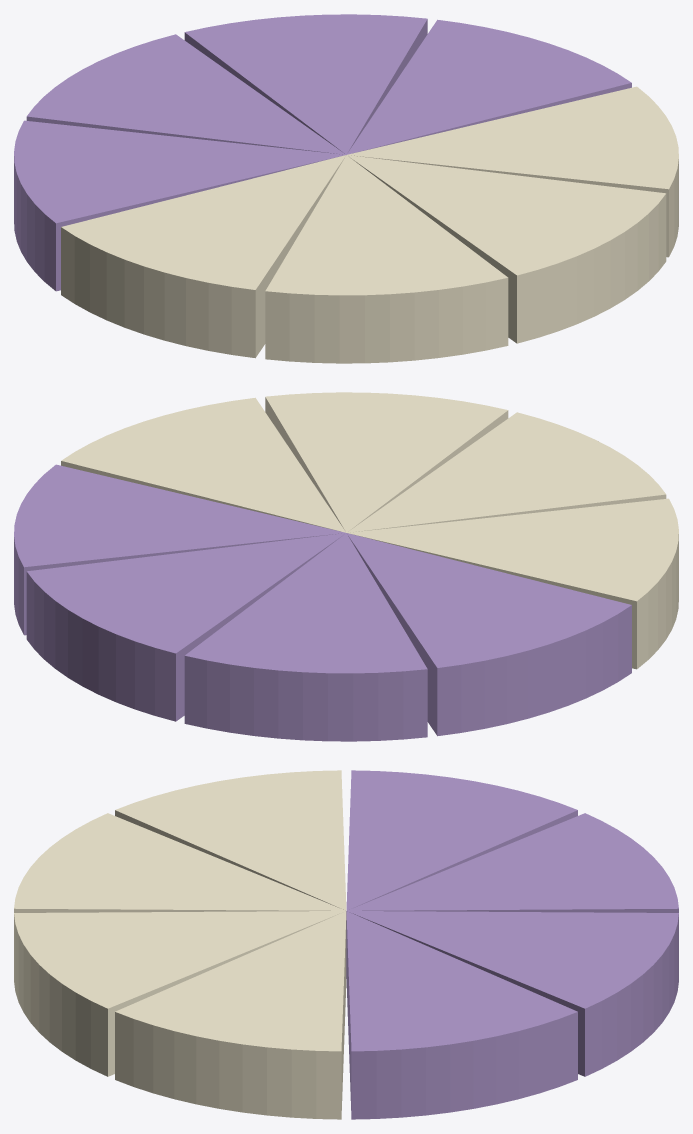
File: fractions.glb
The picture shows the model from 3 angles, top to bottom: view 1: azimuth 30°, elevation 25°; view 2: azimuth 150°, elevation 25°; view 3: azimuth 270°, elevation 25°; orthographic projection.
Parts seen in each view (by area): view 1: fractions_equal_eighth_6, fractions_equal_eighth_5, fractions_equal_eighth_7, fractions_equal_eighth_4, fractions_equal_eighth_8, fractions_equal_eighth_2, fractions_equal_eighth_3, fractions_equal_eighth_1; view 2: fractions_equal_eighth_3, fractions_equal_eighth_4, fractions_equal_eighth_2, fractions_equal_eighth_5, fractions_equal_eighth_1, fractions_equal_eighth_7, fractions_equal_eighth_6, fractions_equal_eighth_8; view 3: fractions_equal_eighth_1, fractions_equal_eighth_8, fractions_equal_eighth_2, fractions_equal_eighth_7, fractions_equal_eighth_3, fractions_equal_eighth_6, fractions_equal_eighth_4, fractions_equal_eighth_5.
Part boxes in pixels (x1,y1,x2,y2): fractions_equal_eighth_6: (265, 155, 508, 363); fractions_equal_eighth_5: (61, 155, 345, 358); fractions_equal_eighth_7: (347, 155, 666, 343); fractions_equal_eighth_4: (14, 120, 345, 291); fractions_equal_eighth_8: (347, 86, 678, 257); fractions_equal_eighth_2: (184, 14, 427, 154); fractions_equal_eighth_3: (26, 34, 345, 154); fractions_equal_eighth_1: (346, 19, 631, 154); fractions_equal_eighth_3: (184, 533, 427, 741); fractions_equal_eighth_4: (347, 533, 631, 736); fractions_equal_eighth_2: (26, 533, 345, 721); fractions_equal_eighth_5: (347, 498, 678, 669); fractions_equal_eighth_1: (14, 464, 345, 635); fractions_equal_eighth_7: (265, 392, 508, 532); fractions_equal_eighth_6: (347, 412, 666, 532); fractions_equal_eighth_8: (61, 397, 346, 532); fractions_equal_eighth_1: (346, 911, 577, 1119); fractions_equal_eighth_8: (115, 911, 346, 1119); fractions_equal_eighth_2: (347, 911, 678, 1076); fractions_equal_eighth_7: (14, 911, 345, 1076); fractions_equal_eighth_3: (347, 813, 678, 912); fractions_equal_eighth_6: (14, 813, 345, 912); fractions_equal_eighth_4: (346, 770, 577, 910); fractions_equal_eighth_5: (115, 770, 346, 910).
Size of the model in its own units: 2.3 by 0.26 by 2.3.
